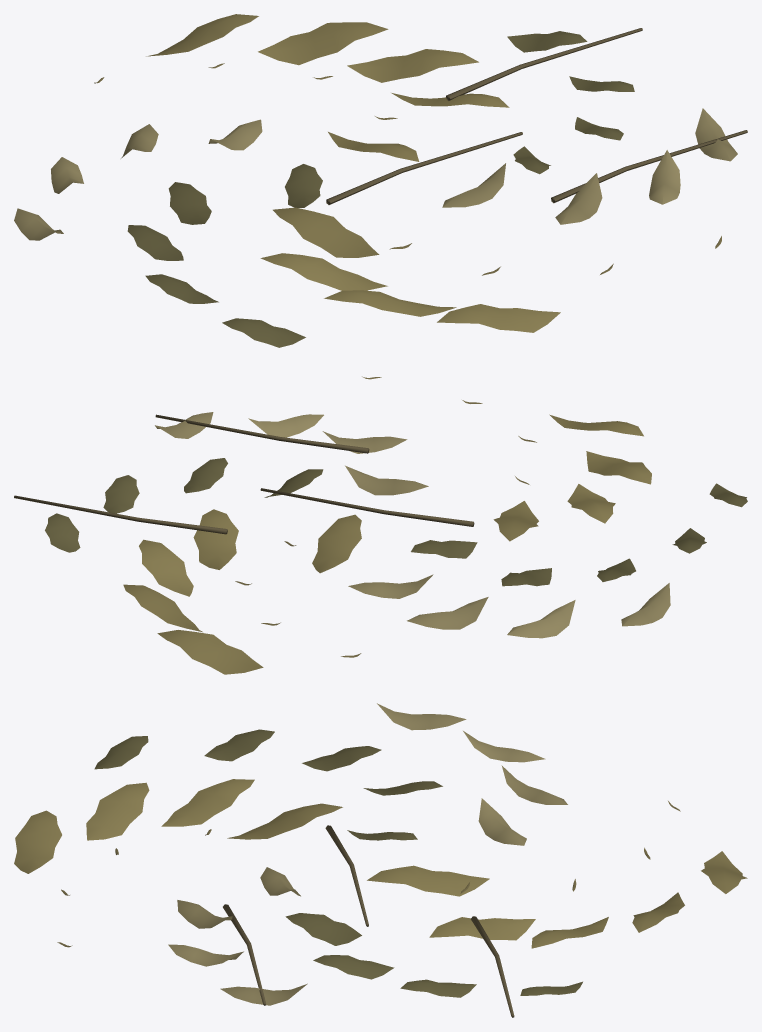
File: Litiere_1.fbx
3 renders of one model, top to bottom at view 1: azimuth 30°, elevation 25°; view 2: azimuth 150°, elevation 25°; view 3: azimuth 270°, elevation 25°, orthographic. The views are drawn at different scales.
Parts seen in each view (by area): view 1: Litiere_1; view 2: Litiere_1; view 3: Litiere_1.
Boxes of the visible parts, x1,y1,x2,y2 form: Litiere_1: (14, 14, 747, 347); Litiere_1: (14, 376, 747, 674); Litiere_1: (14, 703, 747, 1017).
Size of the model in its own units: 46.49 by 2.27 by 46.88.
